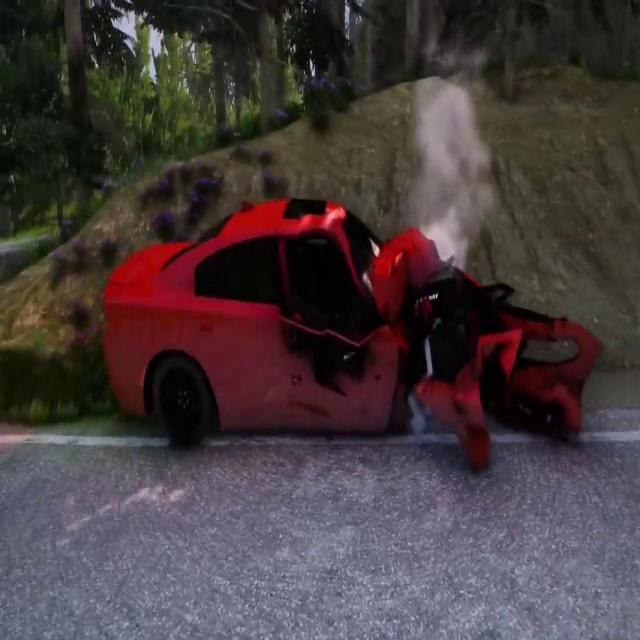accident: (100, 190, 606, 467)
